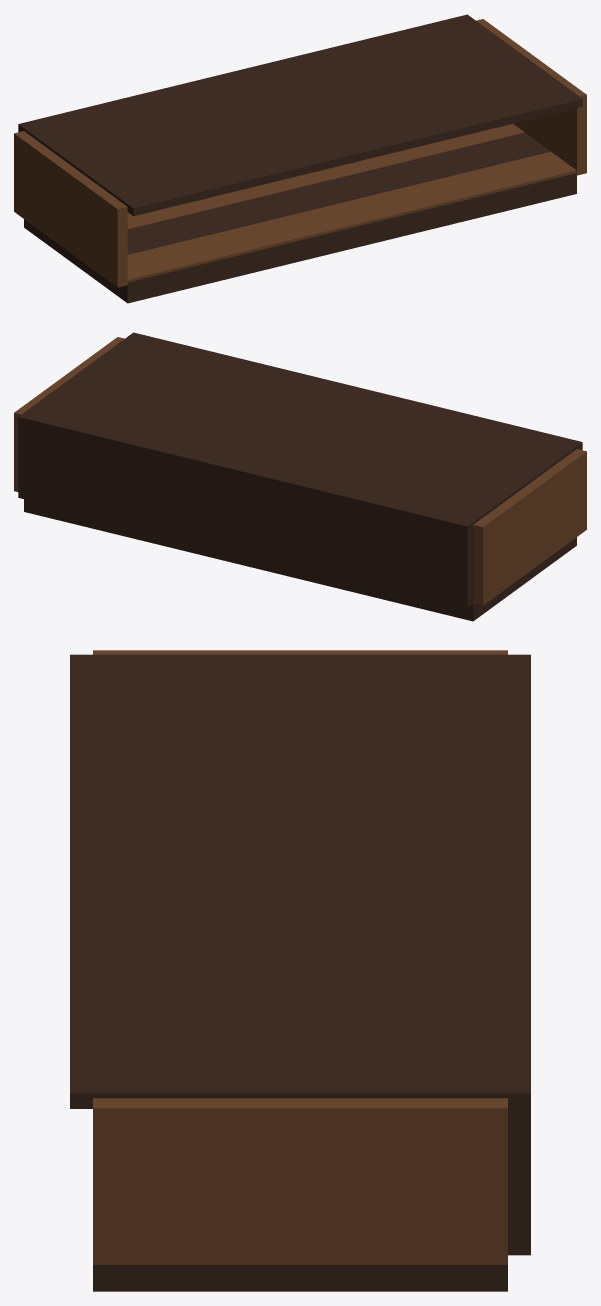
File: SM_Env_GunDeck_LQ.glb
3 renders of one model, top to bottom at view 1: azimuth 30°, elevation 25°; view 2: azimuth 150°, elevation 25°; view 3: azimuth 270°, elevation 25°, orthographic. The views are drawn at different scales.
Parts seen in each view (by area): view 1: SM_Env_GunDeck_LQ; view 2: SM_Env_GunDeck_LQ; view 3: SM_Env_GunDeck_LQ.
Part boxes in pixels (box(x1,y1,x2,y2)): SM_Env_GunDeck_LQ: box(14, 14, 586, 303); SM_Env_GunDeck_LQ: box(14, 332, 586, 621); SM_Env_GunDeck_LQ: box(70, 650, 530, 1291).
Bounding box in the file's own units: 18.8 × 3.8 × 8.
1 material, 1 textured.
